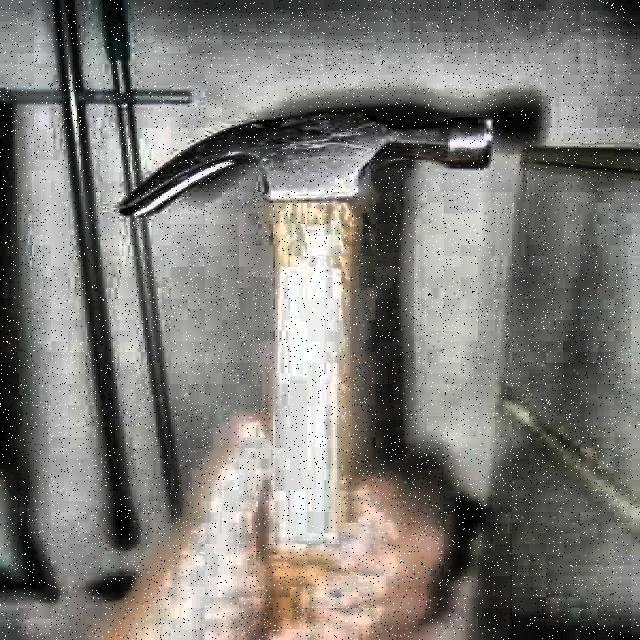hammer: (105, 105, 517, 566)
